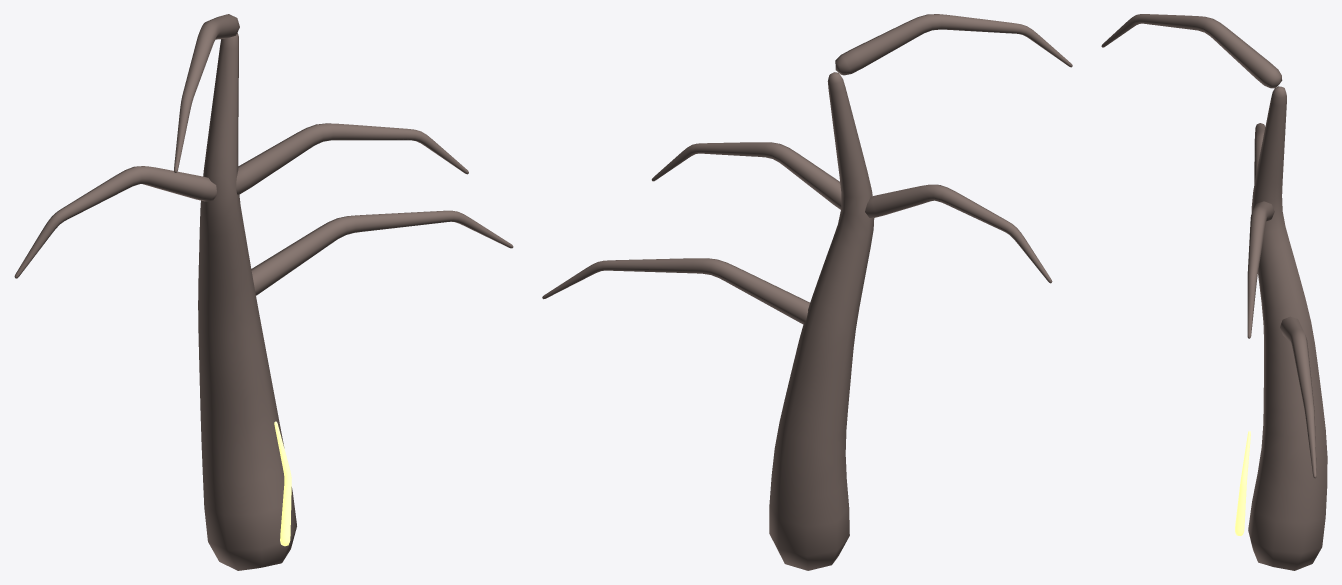
File: ENV_Ember_BurntTree_1_I.fbx
3 views of the same model, side by side, from view 1: azimuth 30°, elevation 25°; view 2: azimuth 150°, elevation 25°; view 3: azimuth 270°, elevation 25° (orthographic). The views are drawn at different scales.
Visible parts, largest first — view 1: ENV_Ember_BurntTree_1_I; view 2: ENV_Ember_BurntTree_1_I; view 3: ENV_Ember_BurntTree_1_I.
Boxes of the visible parts, box(x1,y1,x2,y2) form: ENV_Ember_BurntTree_1_I: box(14, 14, 513, 570); ENV_Ember_BurntTree_1_I: box(542, 14, 1072, 570); ENV_Ember_BurntTree_1_I: box(1101, 14, 1327, 570).
Bounding box in the file's own units: 3.4 × 3.65 × 1.46.
